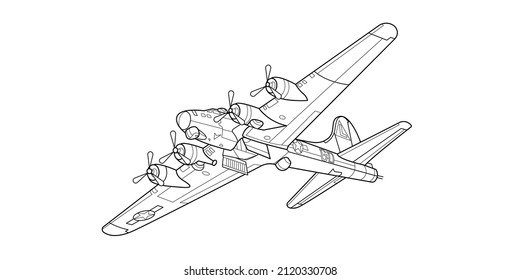airplane: (101, 21, 413, 238)
